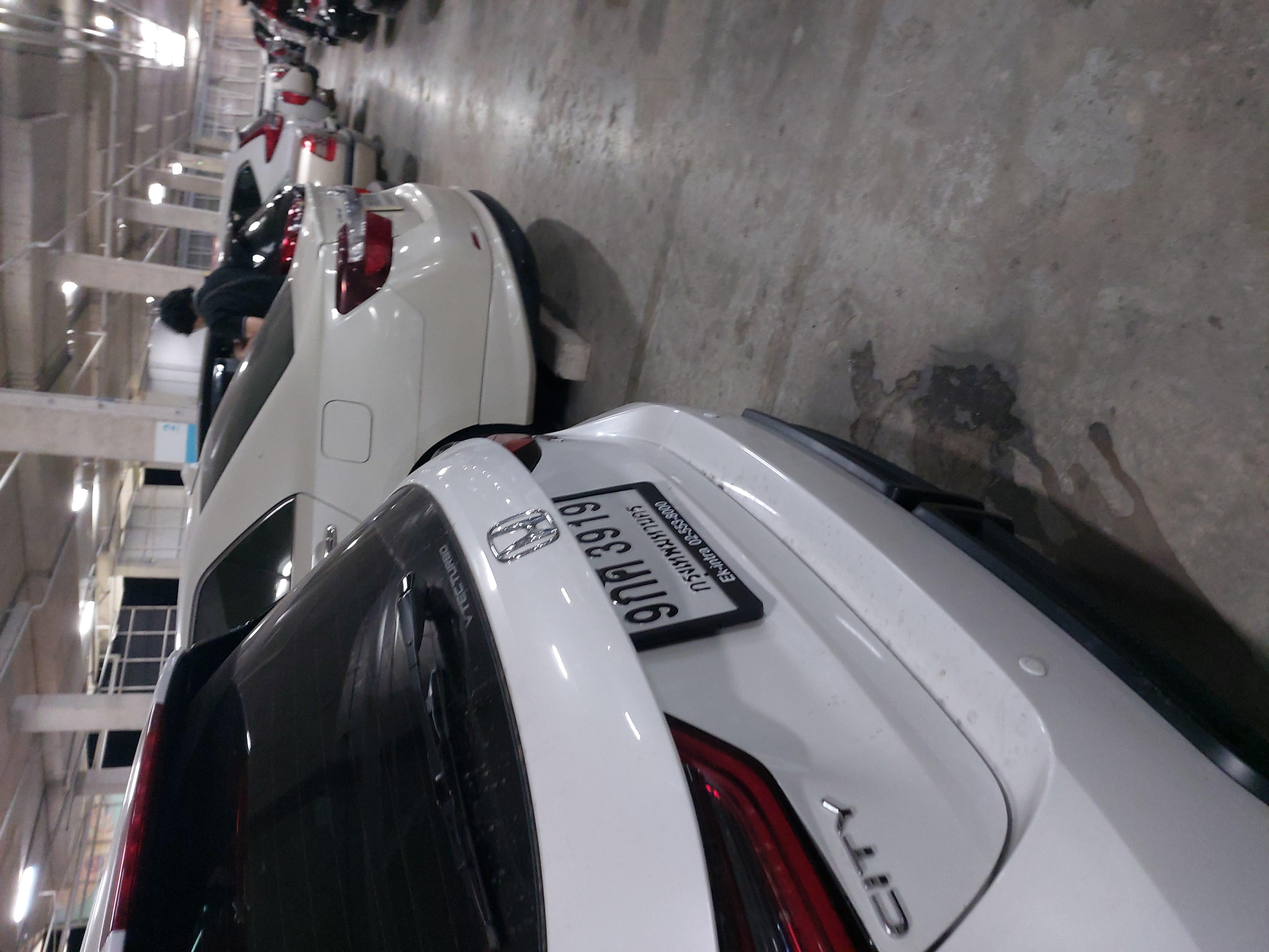license-plate: (423, 412, 622, 555)
